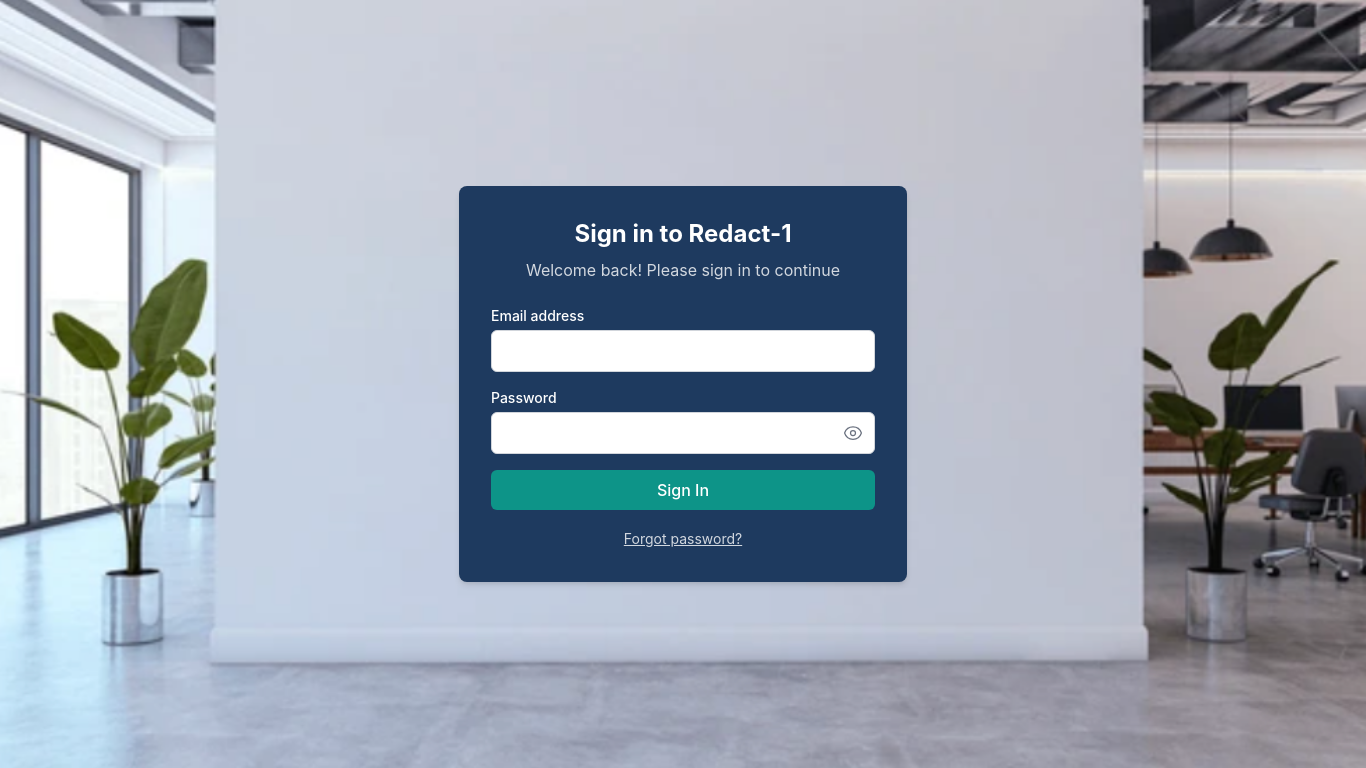
Scenario: SignInPage › Sign In Form › shows generic error message when no specific error provided
Type "test@example.com" into the field. click: (683, 351)
box: x1=491 y1=330 x2=875 y2=372
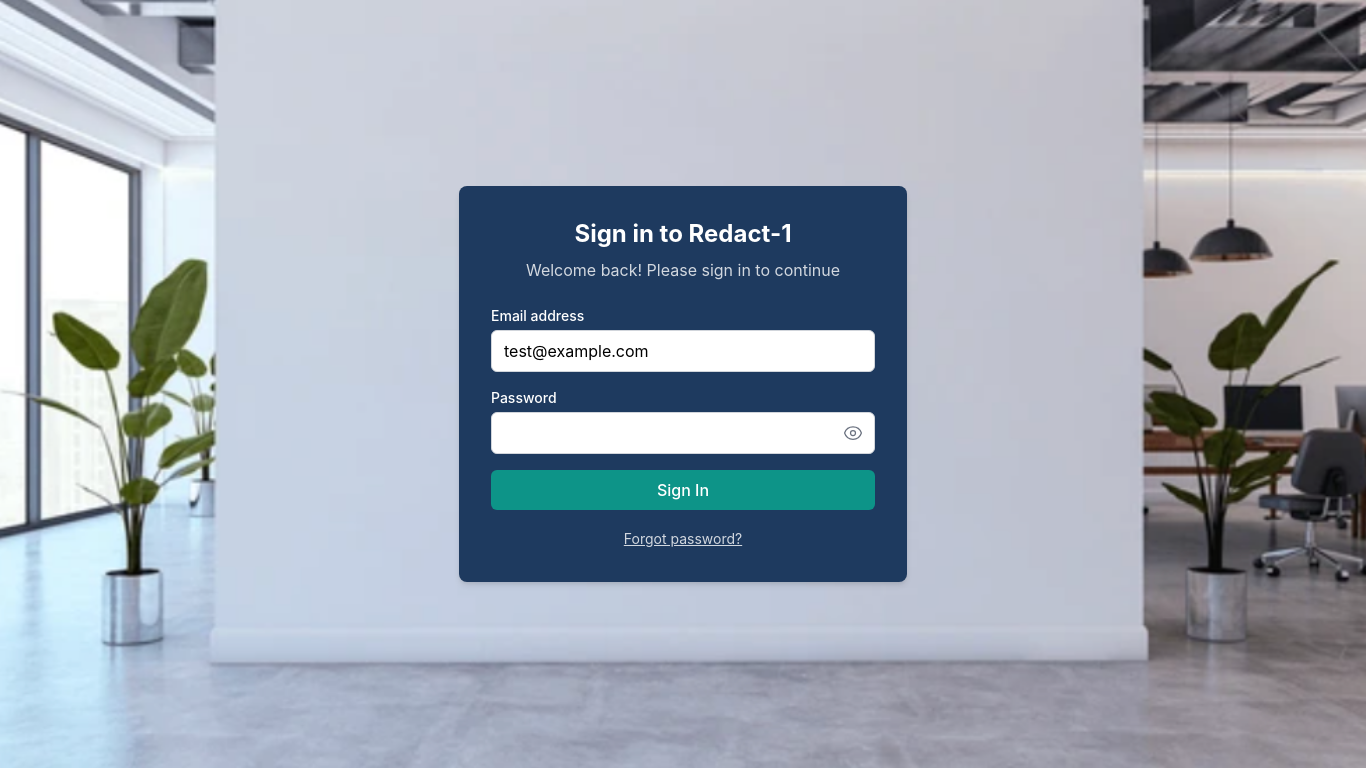
Type "wrongpassword" into the password field. click: (683, 433)
box: x1=491 y1=412 x2=875 y2=454
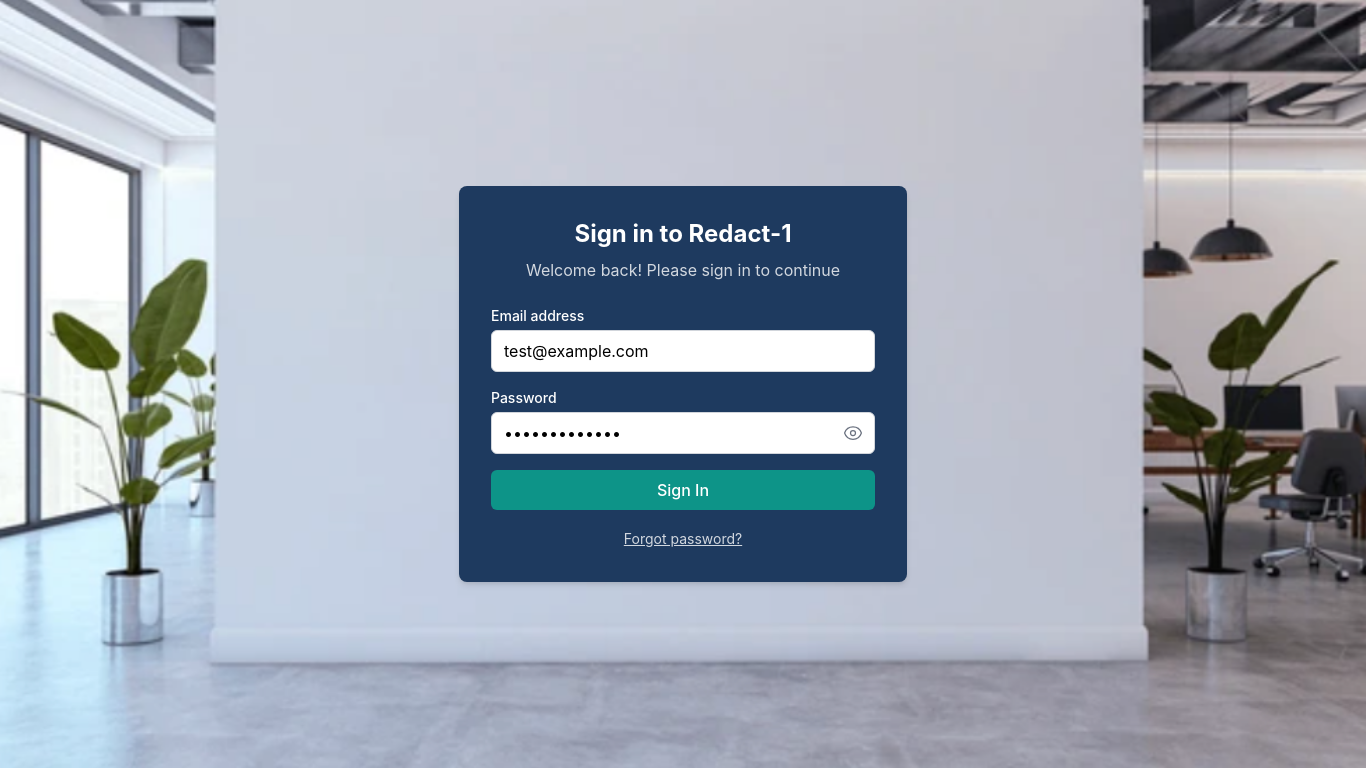
Click the button "Sign In". click: (683, 490)
box: x1=491 y1=470 x2=875 y2=510
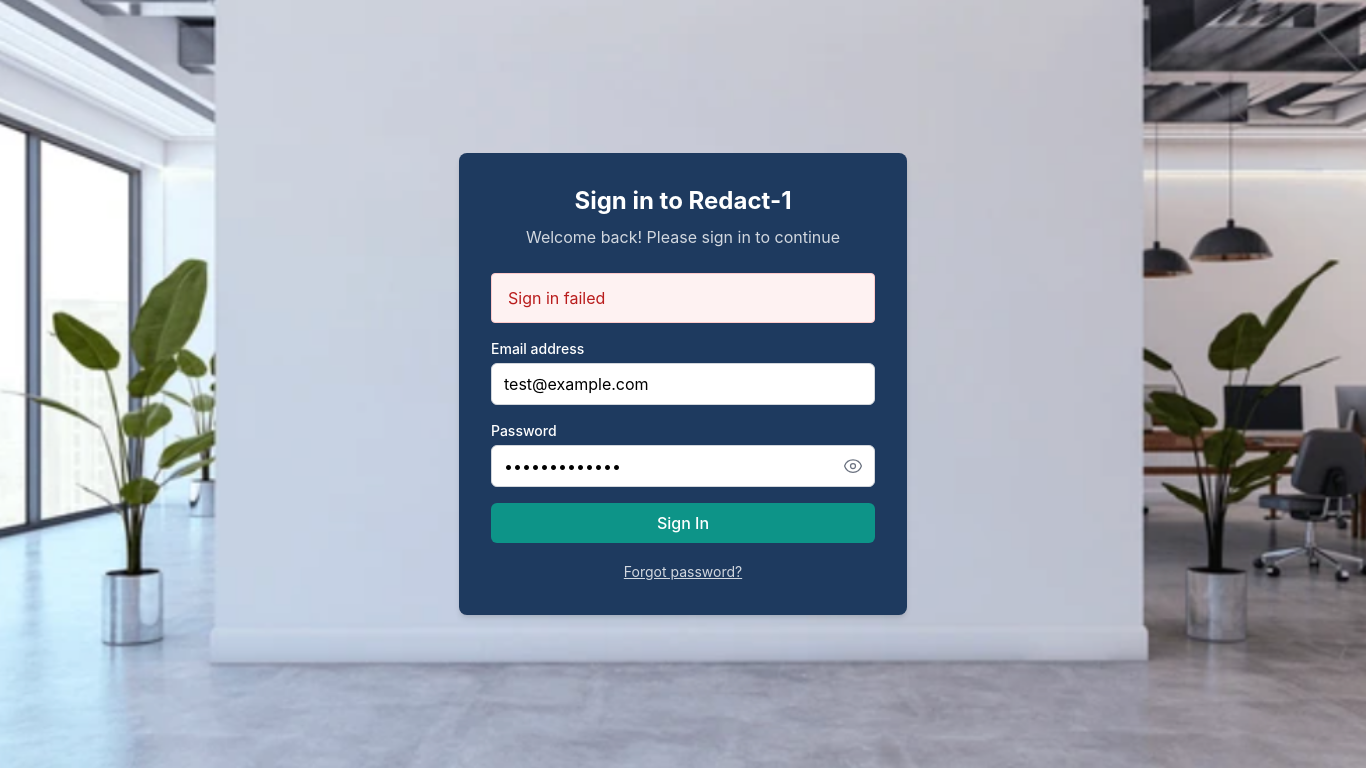
expect the text "Sign in failed" is shown: met, box x1=491 y1=273 x2=875 y2=323
